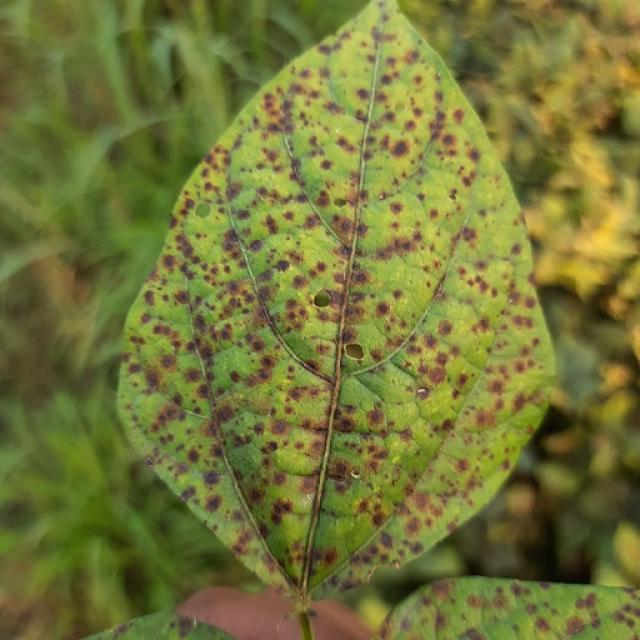Anthracnose: (207, 384, 265, 557), (415, 293, 490, 378), (508, 280, 552, 396), (193, 277, 262, 346), (326, 432, 400, 494), (262, 372, 332, 429), (356, 251, 416, 308), (335, 371, 400, 423), (188, 319, 223, 414), (208, 345, 264, 398), (131, 345, 176, 407), (268, 509, 317, 563), (367, 56, 422, 102), (415, 378, 465, 426), (268, 438, 325, 477), (224, 436, 266, 488), (448, 190, 477, 263), (418, 474, 457, 524), (145, 284, 193, 322), (256, 93, 294, 140), (225, 185, 299, 208), (163, 235, 202, 276), (226, 408, 298, 430), (501, 400, 544, 434), (332, 336, 378, 361), (288, 590, 317, 629), (596, 105, 624, 136), (314, 501, 354, 520), (371, 1, 394, 28), (429, 579, 453, 602), (270, 498, 294, 520), (296, 610, 315, 637), (334, 223, 354, 248), (332, 416, 357, 434), (320, 574, 345, 591), (575, 592, 596, 612), (329, 476, 352, 494), (564, 616, 584, 636), (426, 365, 446, 385), (179, 407, 207, 421), (298, 489, 315, 511), (176, 615, 197, 632), (272, 582, 294, 598), (194, 202, 213, 220), (391, 139, 410, 157), (111, 621, 132, 637), (313, 290, 331, 308), (612, 609, 631, 626), (204, 495, 222, 512), (440, 132, 458, 149), (510, 582, 529, 598), (203, 470, 221, 486), (332, 194, 351, 209), (466, 594, 485, 609), (321, 548, 337, 565), (380, 532, 395, 549), (388, 201, 404, 216), (305, 359, 320, 373), (524, 602, 539, 616), (275, 259, 290, 272), (462, 633, 487, 640), (365, 568, 376, 583), (376, 0, 389, 12), (320, 160, 333, 171), (267, 402, 275, 418), (416, 387, 428, 397), (191, 406, 202, 416), (392, 559, 402, 569), (145, 456, 154, 467), (350, 470, 360, 479), (450, 192, 458, 202), (436, 71, 442, 80), (508, 297, 515, 304), (417, 39, 423, 46), (335, 128, 340, 135), (379, 194, 384, 200)
Blackgram: (116, 0, 551, 614)
